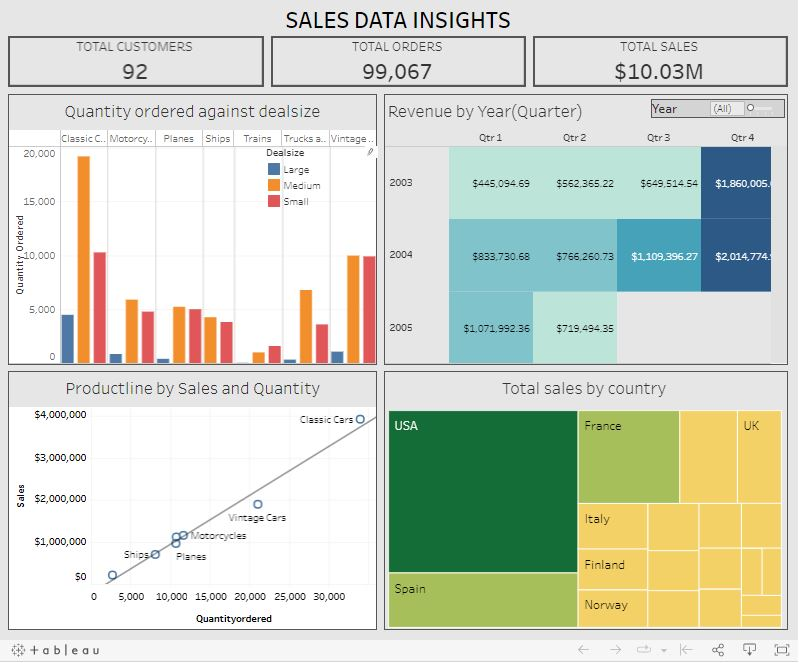

This screenshot's page, from the dashboard's own definition file:
{"tool":"tableau","page":{"name":"SALES DATA INSIGHTS","canvas":[1000,800],"ordinal":0},"visuals":[{"type":"title","box":[8,8,984,32]},{"type":"worksheet","title":"Total Customers","mark":"Automatic","box":[8,40,328,73.6]},{"type":"worksheet","title":"Total Orders","mark":"Automatic","box":[336,40,328,73.6]},{"type":"worksheet","title":"Total Sales","mark":"Automatic","box":[664,40,328,73.6]},{"type":"worksheet","title":"Quantity ordered against dealsize","mark":"Automatic","rows":["QUANTITYORDERED"],"cols":["PRODUCTLINE","DEALSIZE"],"box":[8,113.6,470,346.4]},{"type":"worksheet","title":"Revenue by Year(Quarter)","mark":"Square","rows":["YEAR_ID"],"cols":["QTR_ID"],"box":[478,113.6,514,346.4]},{"type":"filter","title":"Sales by Country","param":"[federated.0s52fxs0mqqfih18lv6g51lakyah].[none:YEAR_ID:ok]","box":[816,124,168,24]},{"type":"legend","title":"Quantity ordered against dealsize","param":"[federated.0s52fxs0mqqfih18lv6g51lakyah].[none:DEALSIZE:nk]","box":[335,182,140,85]},{"type":"worksheet","title":"Productline by Sales and Quantity","mark":"Automatic","rows":["SALES"],"cols":["QUANTITYORDERED"],"box":[8,460,470,332]},{"type":"worksheet","title":"Sales by Country","mark":"Automatic","box":[478,460,514,332]}]}

Visuals, with their boxes in screenshot pixels (x1, y1, x2, y2):
title: detection(8, 10, 784, 36)
"Total Customers" worksheet: detection(8, 36, 267, 94)
"Total Orders" worksheet: detection(267, 36, 525, 94)
"Total Sales" worksheet: detection(525, 36, 784, 94)
"Quantity ordered against dealsize" worksheet: detection(8, 94, 379, 367)
"Revenue by Year(Quarter)" worksheet (Square marks): detection(379, 94, 784, 367)
"Sales by Country" filter: detection(645, 102, 777, 121)
"Quantity ordered against dealsize" legend: detection(266, 148, 376, 215)
"Productline by Sales and Quantity" worksheet: detection(8, 367, 379, 628)
"Sales by Country" worksheet: detection(379, 367, 784, 628)
